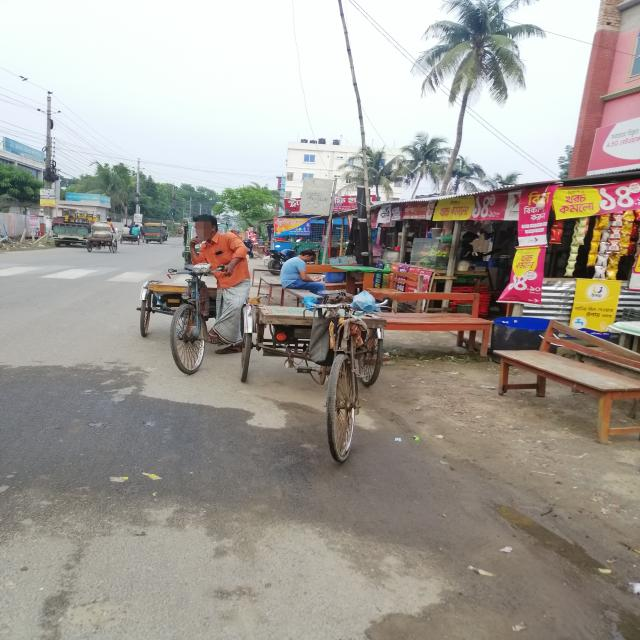Van: (244, 299, 394, 470), (128, 277, 252, 379)
